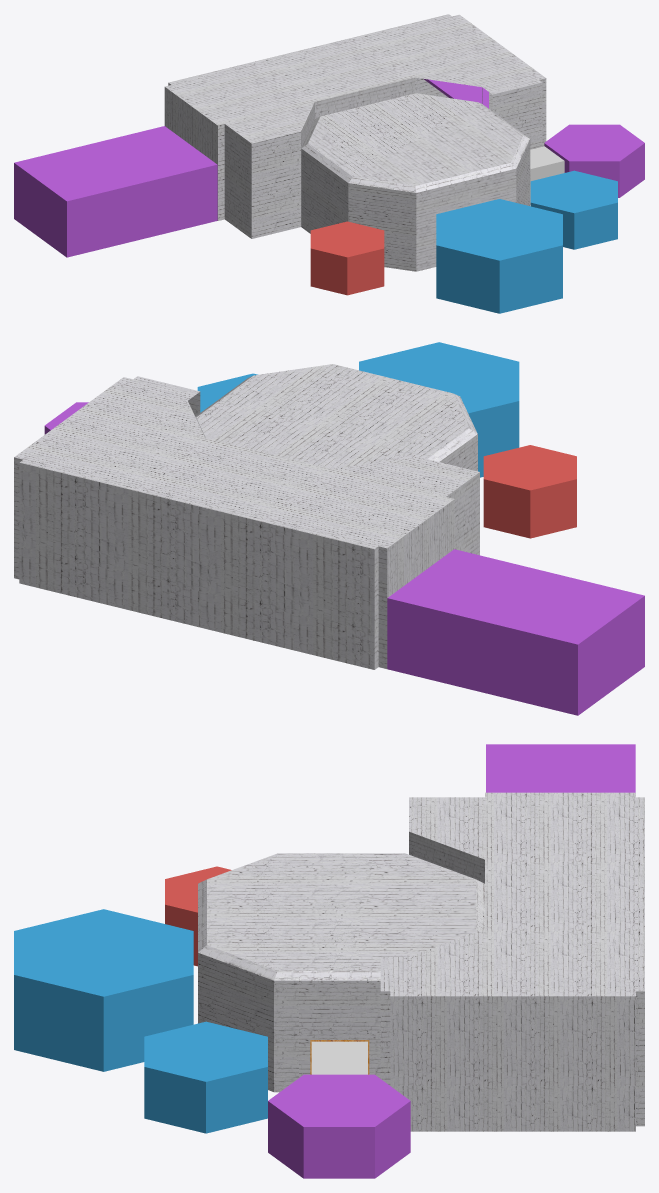
Rendered from main_room_objects_4.glb.
3 views of the same model, one above another, from view 1: azimuth 30°, elevation 25°; view 2: azimuth 150°, elevation 25°; view 3: azimuth 270°, elevation 25° (orthographic). The views are drawn at different scales.
Visible parts, largest first — view 1: Walls_Backroom_1, Walls_Main_room, Cube.005, Cylinder.005, Cylinder.004, Cylinder.003, Cylinder.002, ELEVATOR_CORRIDOOR, LOFT-FLOOR; view 2: Walls_Backroom_1, Cube.005, Walls_Main_room, Cylinder.005, Cylinder.003, Cylinder.004; view 3: Walls_Backroom_1, Walls_Main_room, Cylinder.005, Cylinder.002, Cylinder.004, Cube.005, Cylinder.003, ELEVATOR_CORRIDOOR.
Boxes of the visible parts, bbox=[...] form: Walls_Backroom_1: bbox=[164, 14, 546, 238]; Walls_Main_room: bbox=[301, 93, 530, 271]; Cube.005: bbox=[14, 126, 217, 257]; Cylinder.005: bbox=[436, 199, 562, 313]; Cylinder.004: bbox=[530, 170, 617, 249]; Cylinder.003: bbox=[310, 221, 384, 295]; Cylinder.002: bbox=[544, 124, 644, 197]; ELEVATOR_CORRIDOOR: bbox=[530, 146, 564, 204]; LOFT-FLOOR: bbox=[423, 78, 488, 108]; Walls_Backroom_1: bbox=[14, 376, 479, 669]; Cube.005: bbox=[387, 549, 644, 715]; Walls_Main_room: bbox=[195, 364, 477, 471]; Cylinder.005: bbox=[359, 342, 519, 477]; Cylinder.003: bbox=[483, 445, 576, 538]; Cylinder.004: bbox=[197, 373, 257, 412]; Walls_Backroom_1: bbox=[380, 792, 644, 1131]; Walls_Main_room: bbox=[198, 853, 484, 1092]; Cylinder.005: bbox=[14, 909, 193, 1071]; Cylinder.002: bbox=[268, 1074, 410, 1178]; Cylinder.004: bbox=[144, 1021, 267, 1133]; Cube.005: bbox=[486, 744, 635, 792]; Cylinder.003: bbox=[165, 866, 231, 966]; ELEVATOR_CORRIDOOR: bbox=[311, 1041, 367, 1074].
Bounding box in the file's own units: 37.03 × 6.61 × 27.83.
Materials: 10 (2 with a texture image).
